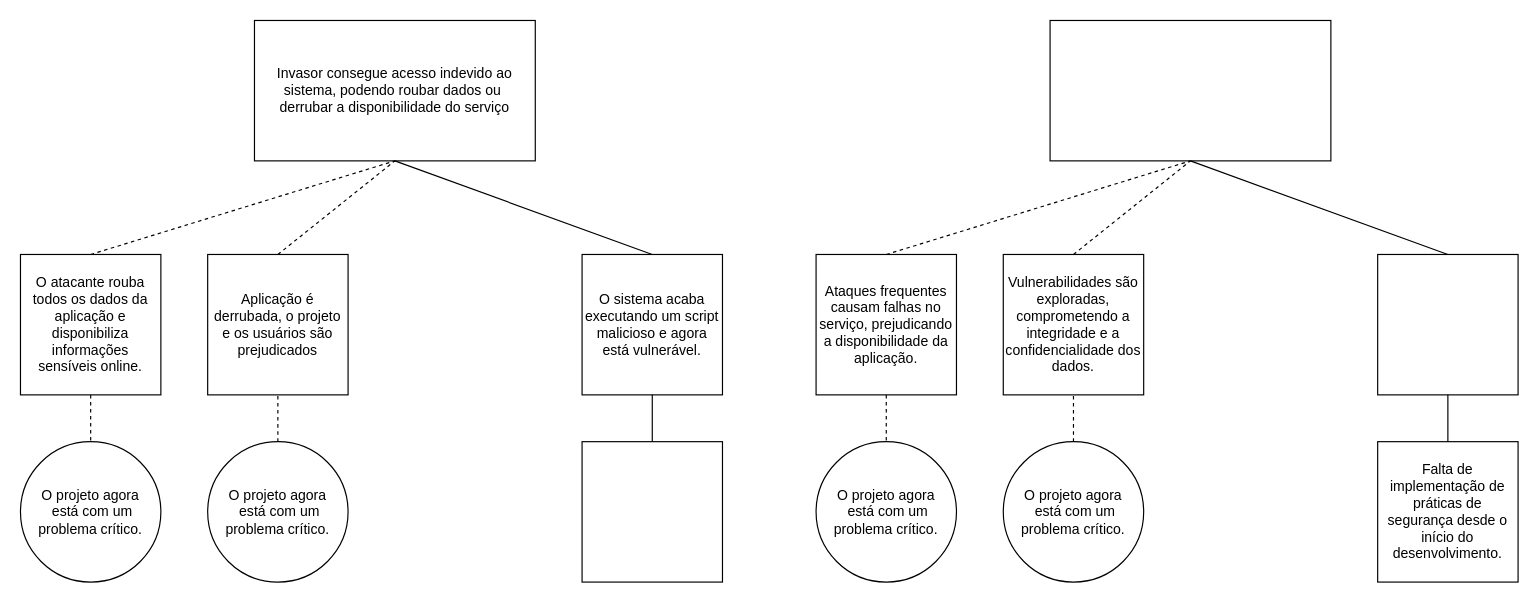
This 1539x603 diagram has some shape labels left out. Each missing label, with the centre of its shape:
Arquitetura e frameworks inseguros são utilizados no desenvolvimento.: [1447,324]
Input de dados não realiza validação do conteúdo fornecido nos campos de texto.: [651,511]
O sistema é suscetível a múltiplas vulnerabilidades devido a um design inseguro.: [1190,90]
